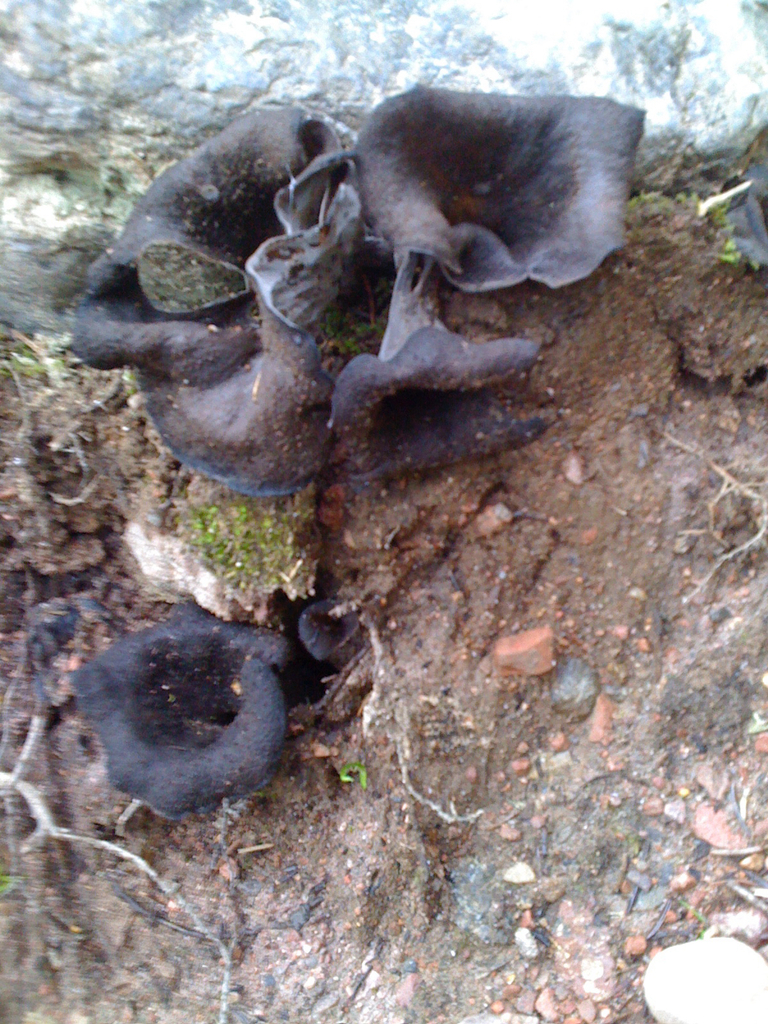Cap: (72, 109, 339, 495), (357, 87, 642, 291), (73, 607, 290, 818), (332, 326, 545, 482)
Stem: (379, 251, 445, 360)
Underside: (244, 152, 362, 333)
